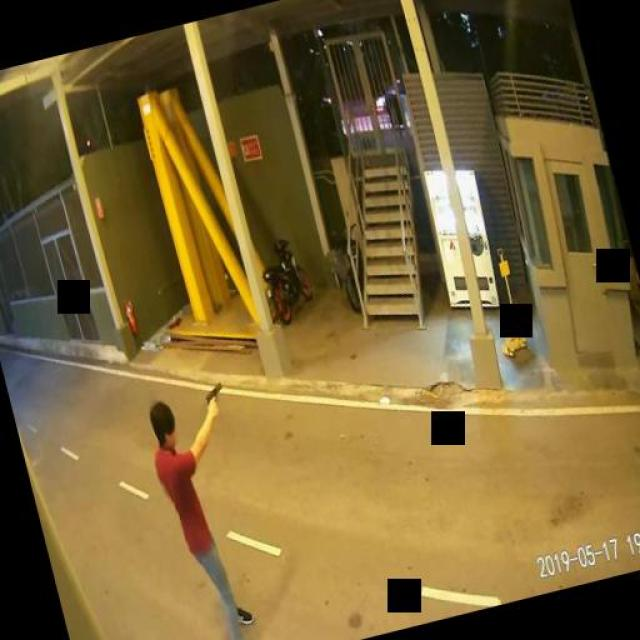gun: (202, 380, 226, 416)
